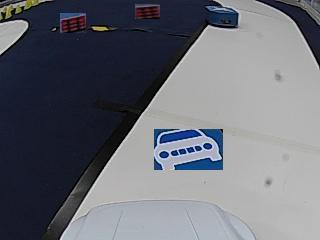prop: (207, 7, 238, 28)
